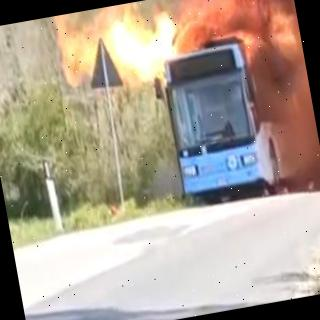smoke: (273, 78, 320, 176)
